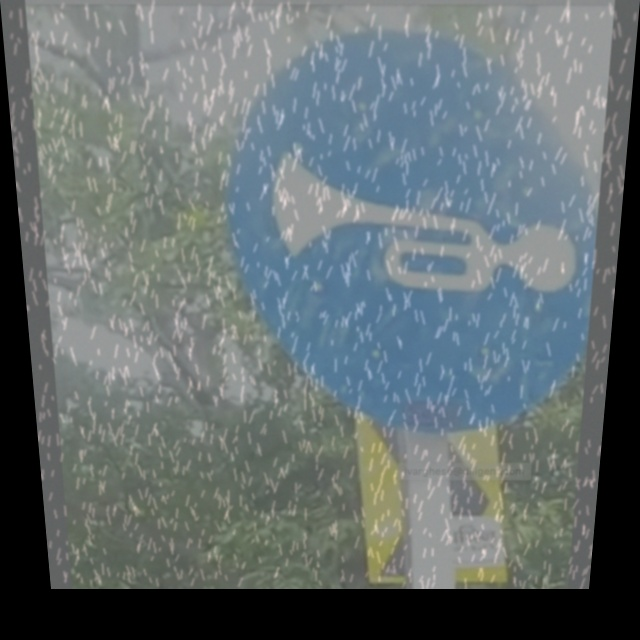Compulsory_Sound_Horn: (236, 79, 597, 389)
